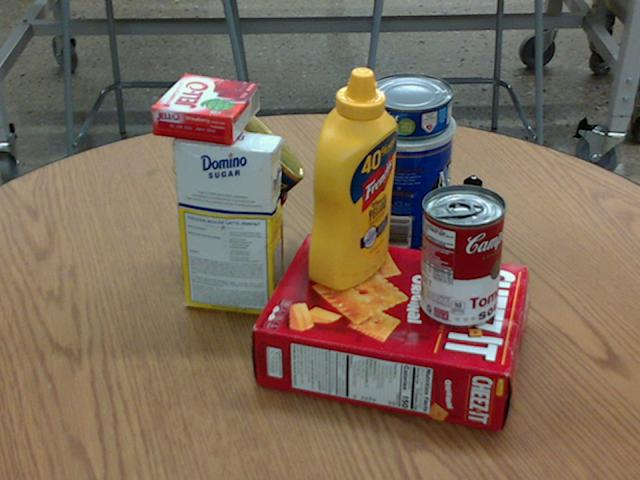cracker_box: (255, 232, 529, 430)
gelatin_box: (151, 73, 259, 143)
large_marker: (454, 175, 481, 287)
master_chef_can: (352, 100, 457, 264)
mug: (193, 169, 286, 277)
mustard_bottle: (308, 66, 396, 290)
potted_meat_can: (173, 104, 305, 232)
sugar_box: (171, 125, 282, 317)
tomato_soup_can: (420, 183, 507, 327)
tuna_fish_can: (367, 73, 454, 137)
